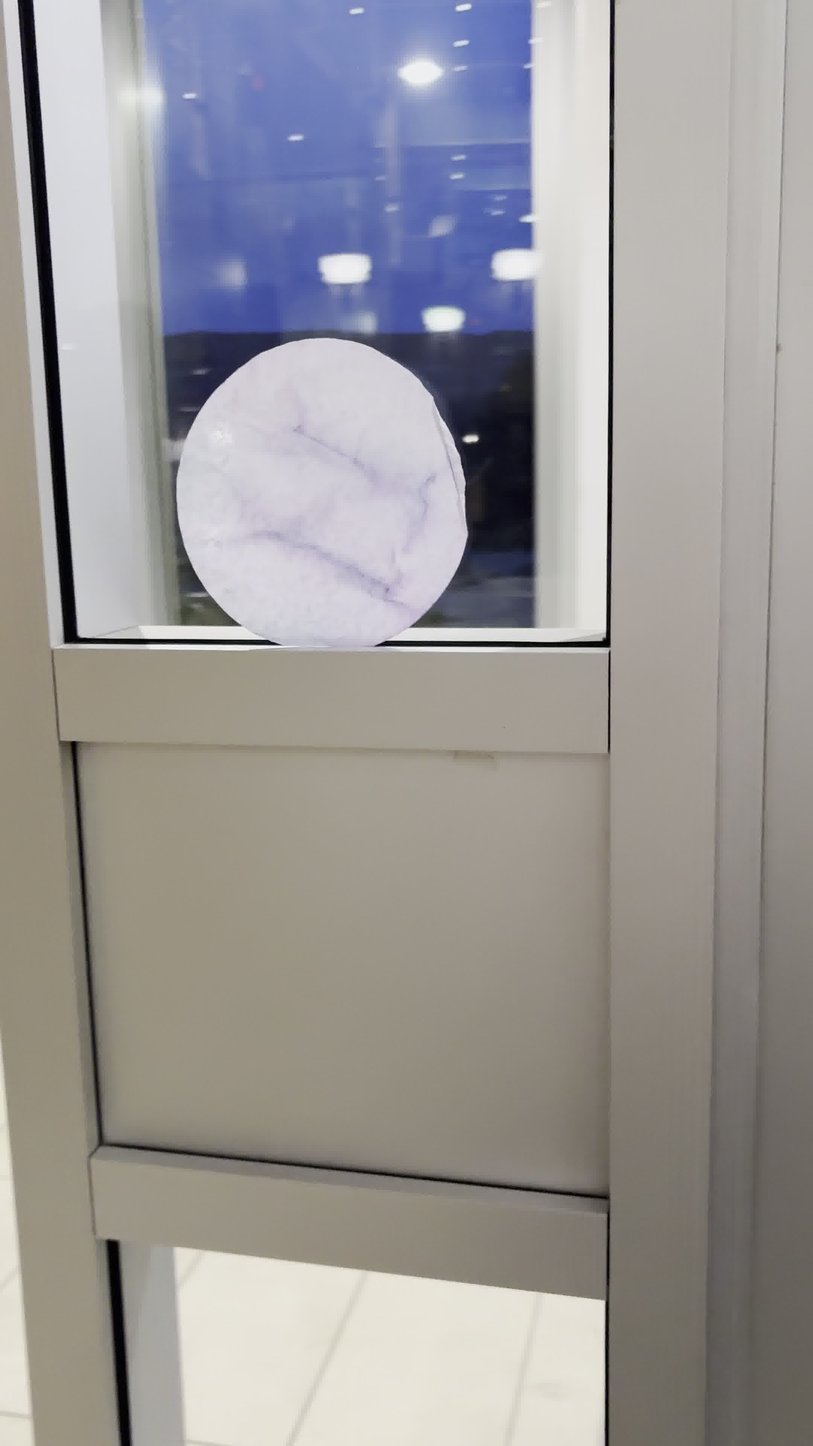Target: (175, 334, 478, 658)
